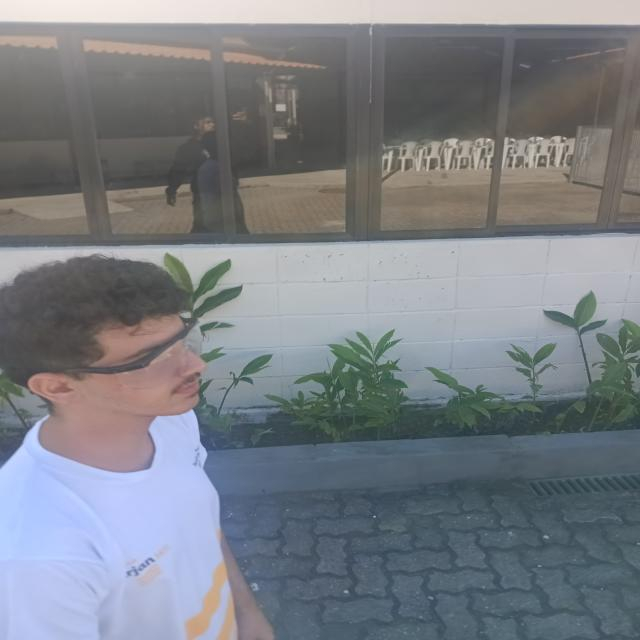oculos-epi: (65, 317, 203, 389)
